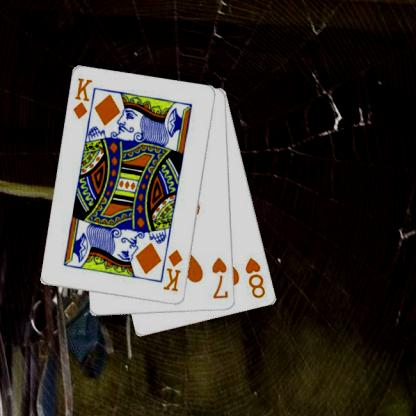7H: (209, 255, 230, 300)
8H: (243, 255, 268, 300)
KD: (161, 247, 184, 293), (70, 75, 93, 120)
